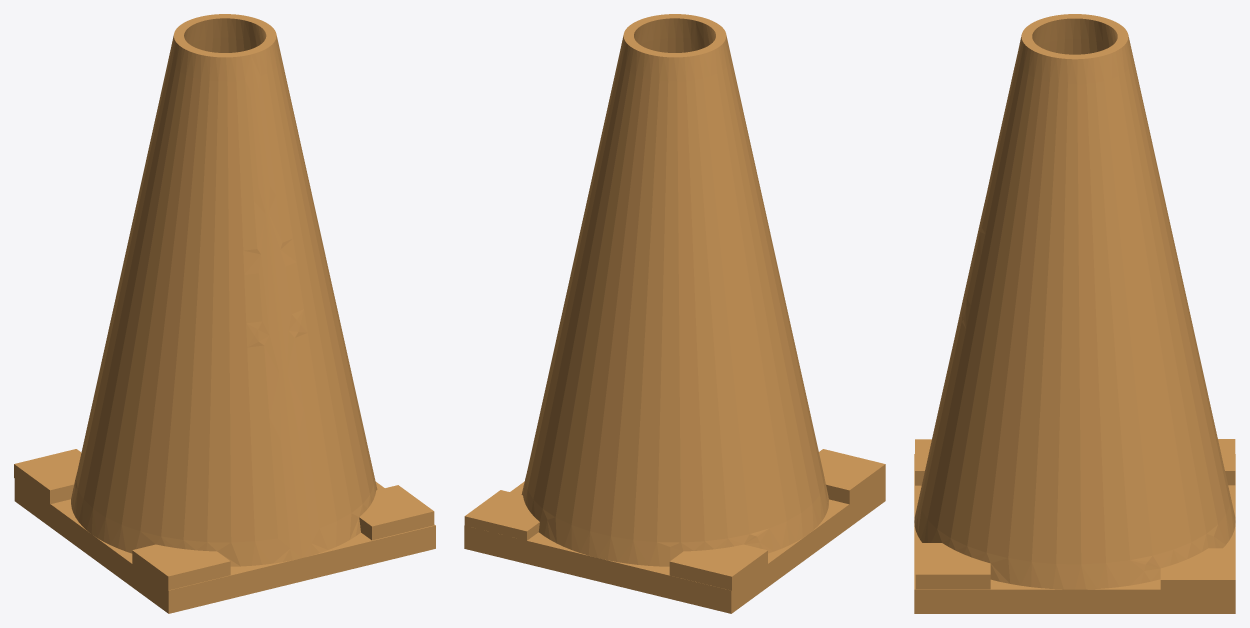
3 views of the same model, side by side, from view 1: azimuth 30°, elevation 25°; view 2: azimuth 150°, elevation 25°; view 3: azimuth 270°, elevation 25° (orthographic). The views are drawn at different scales.
Size of the model in its own units: 0.4041 by 0.7059 by 0.4034.
